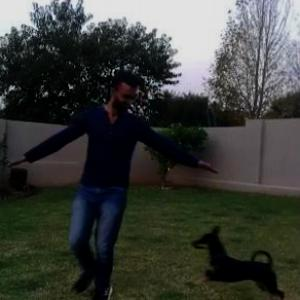land: (24, 76, 210, 282)
